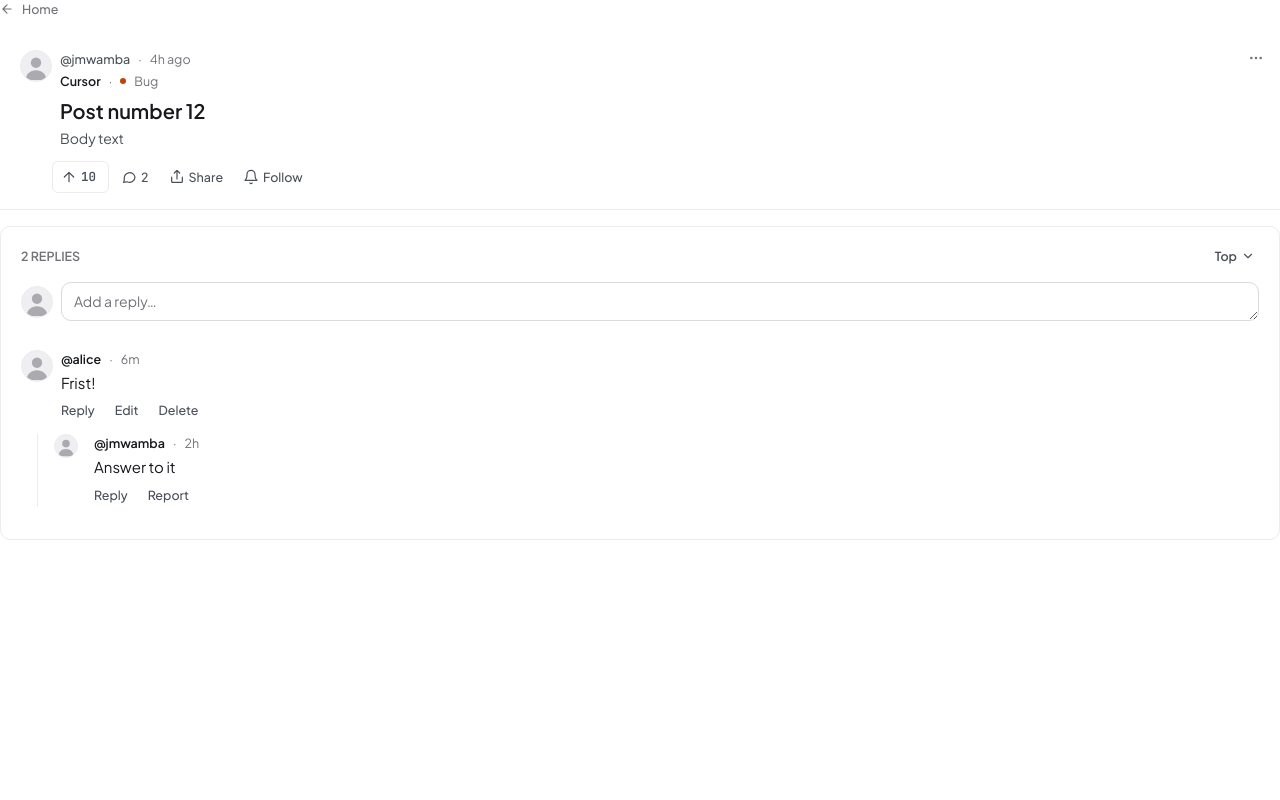
it: replies › lets the author edit and delete their reply
Click the button "Edit". click: click(127, 410)
box: [107,398,146,422]
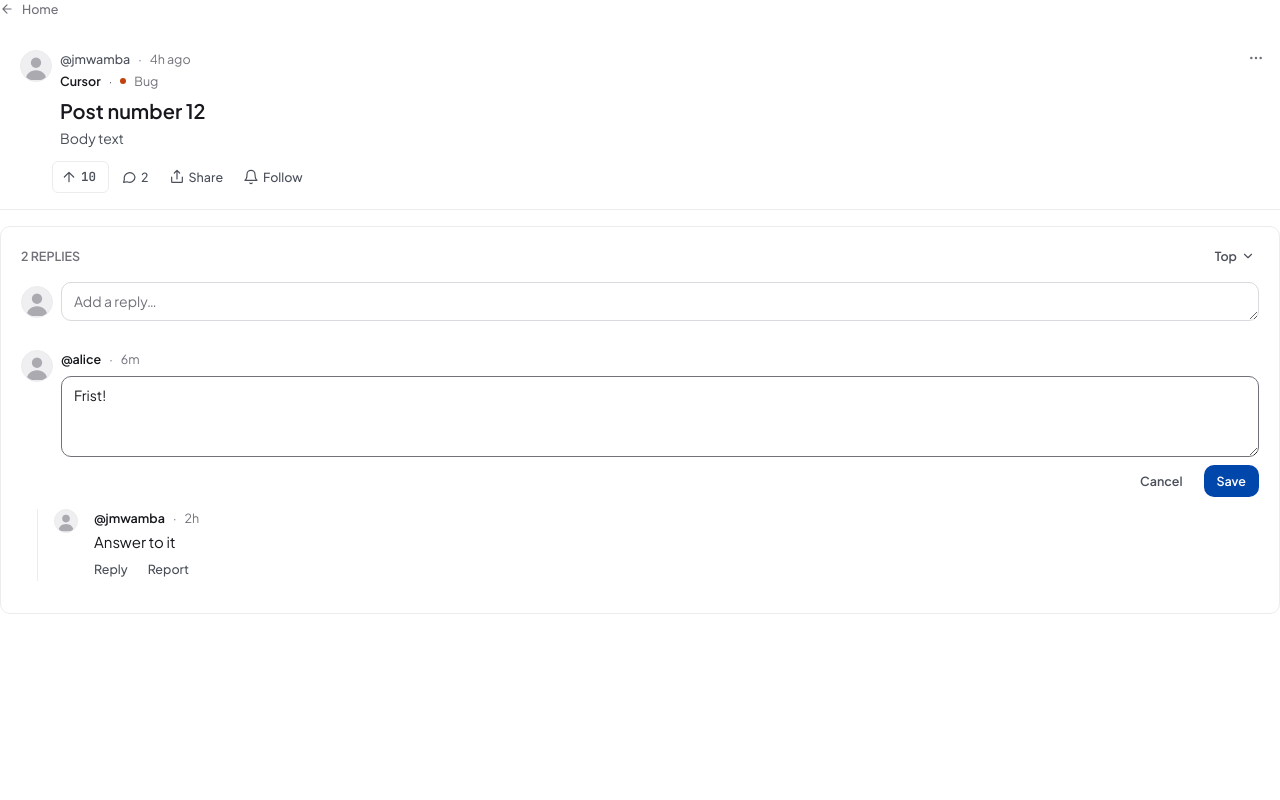
Replace the text in the 2nd text box with "First!". click: (660, 416)
box: [61,376,1259,457]
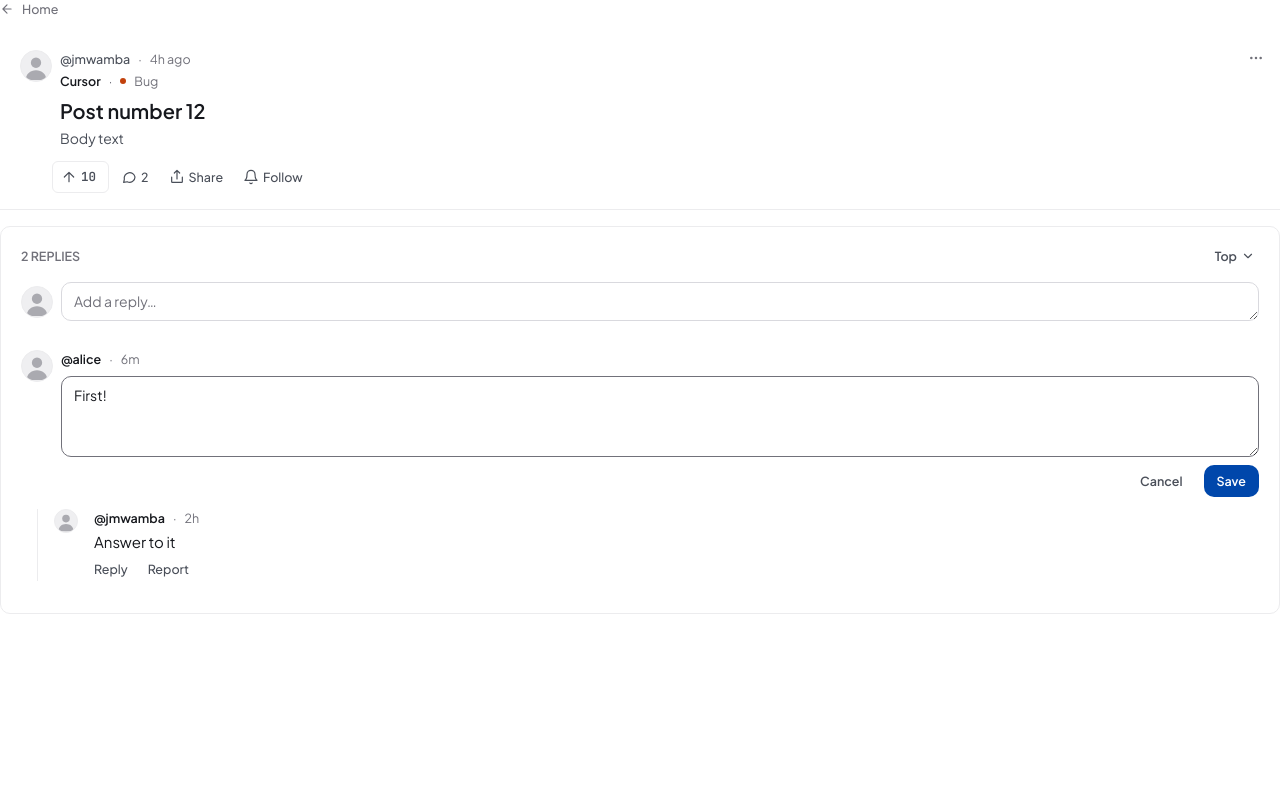
Click the button "Save". click: click(1231, 481)
box: [1204,465,1259,497]
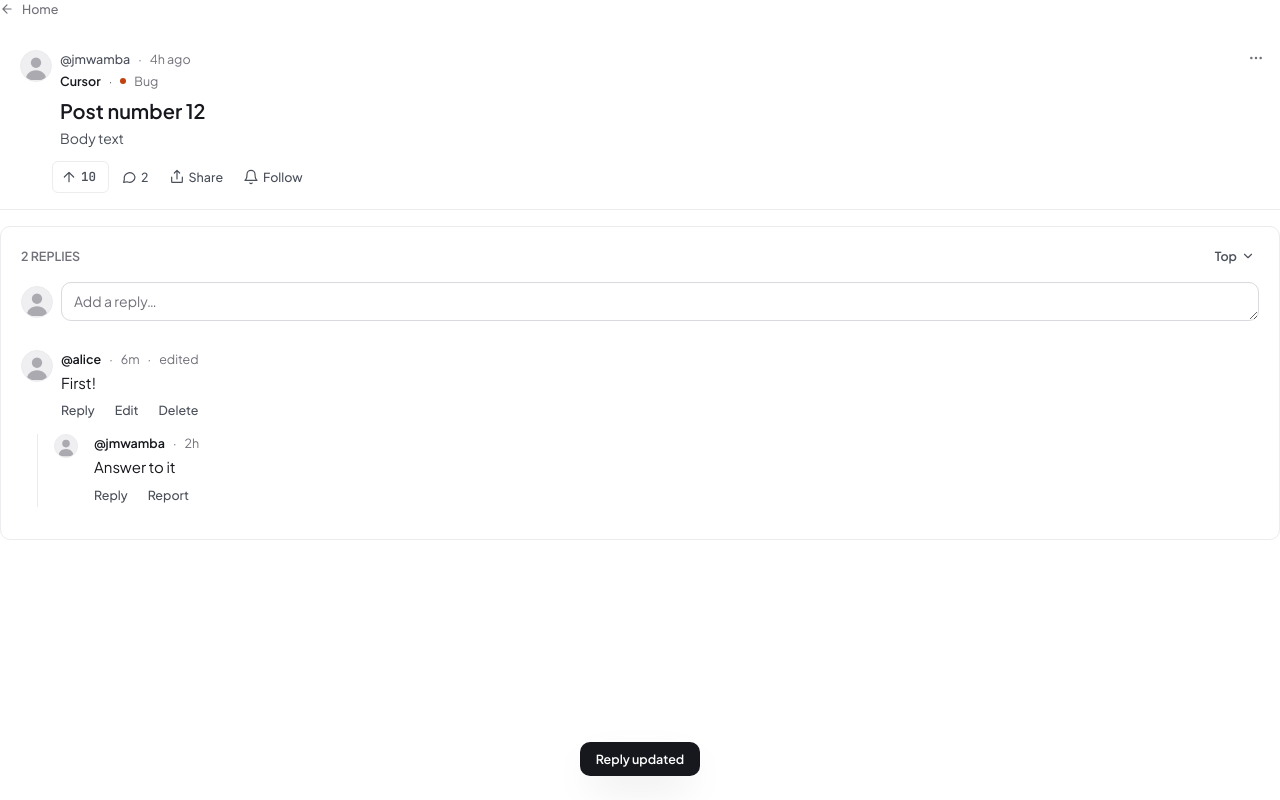
Expected: the text "First!" is shown, [61,373,96,392]
Click the button "Delete". click: click(178, 410)
box: [150,398,206,422]
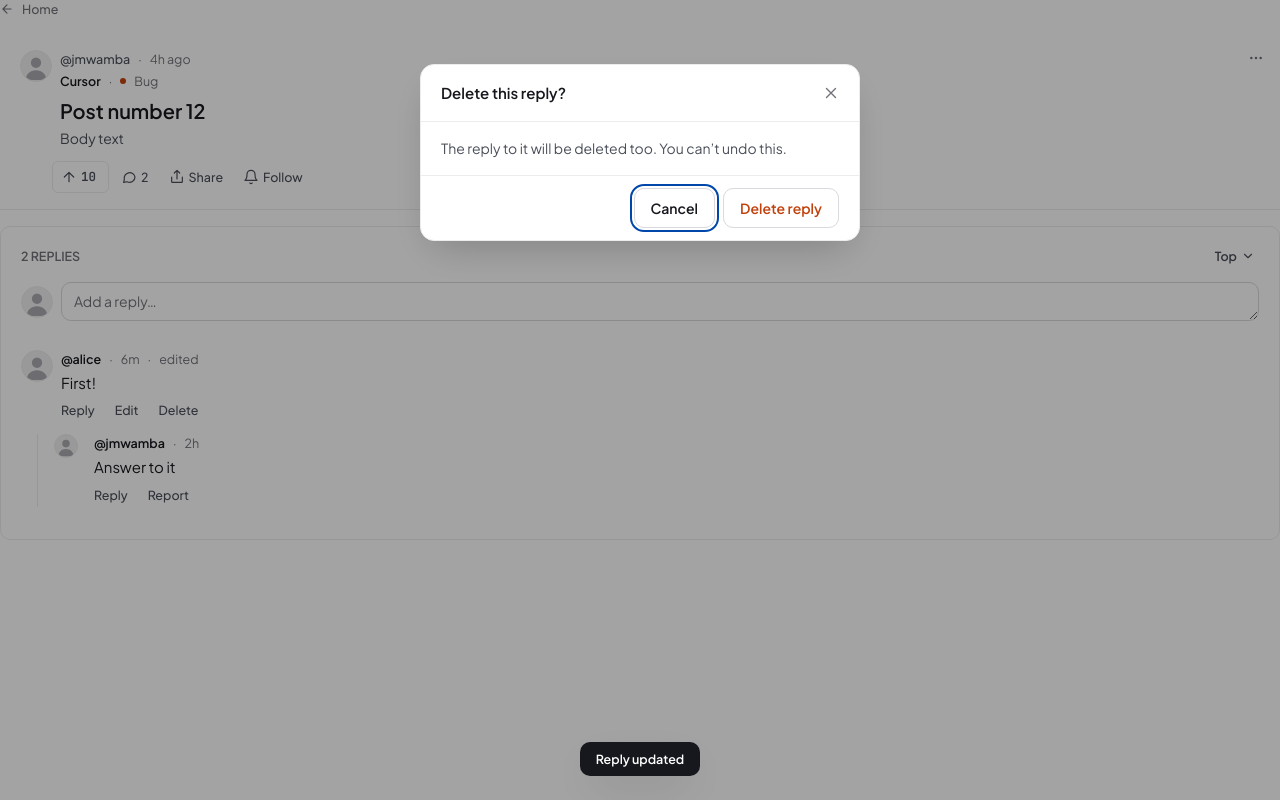
Expected: the dialog "Delete this reply?" shows "The reply to it will be deleted too.", [441,139,787,157]
Click the button "Delete reply". click: click(781, 208)
box: [723,188,839,228]
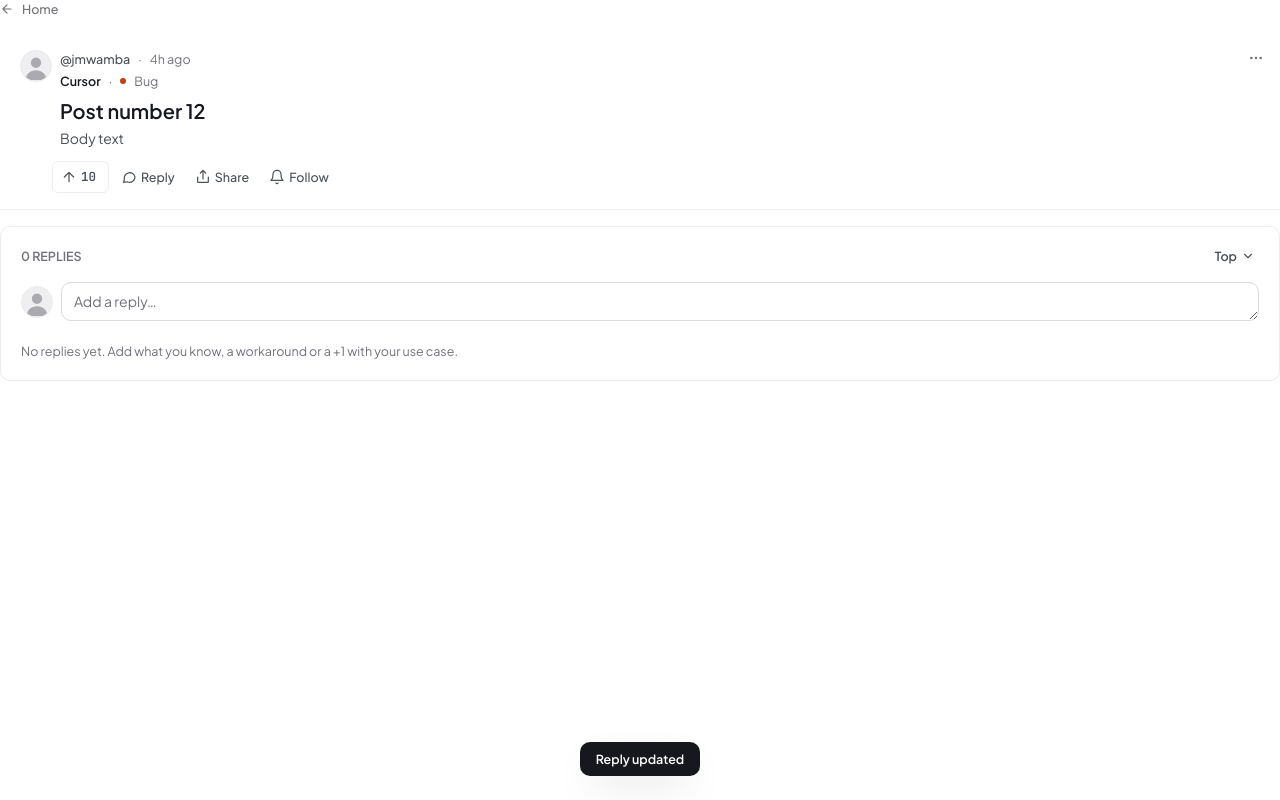
Expected: the text "First!" is gone
Expected: the text "Answer to it" is gone
Expected: the heading "0 replies" is shown, [21,247,82,266]
